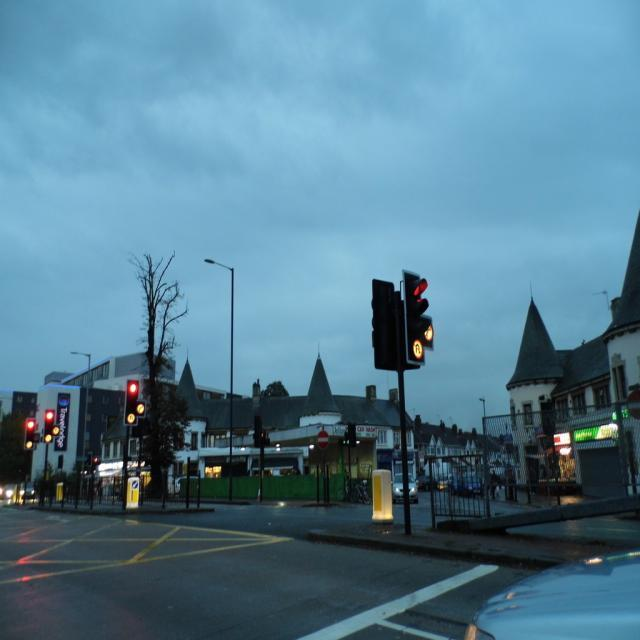traffic light: (403, 271, 429, 342), (123, 379, 145, 422), (23, 420, 41, 450), (42, 409, 55, 440)
